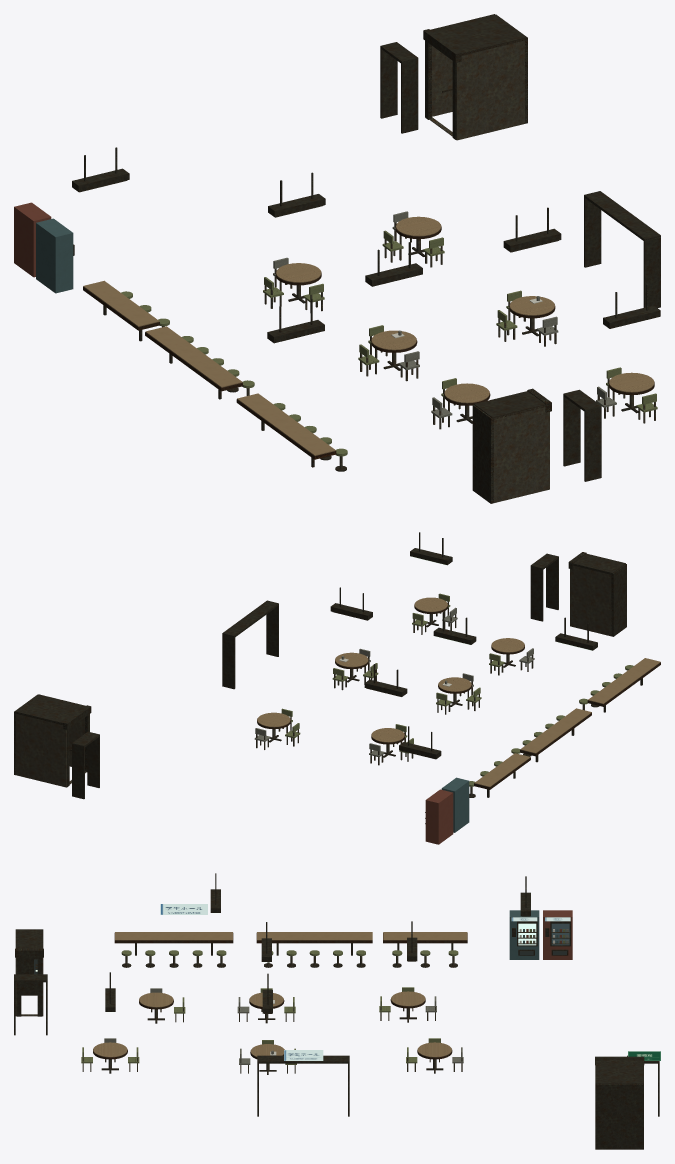
File: school_2f_elevators.glb
The picture shows the model from 3 angles, top to bottom: view 1: azimuth 30°, elevation 25°; view 2: azimuth 150°, elevation 25°; view 3: azimuth 270°, elevation 25°; orthographic projection. The views are drawn at different scales.
Visible parts, largest first — view 1: Door casing / Frame, Details 1 -2 / Steel, Details -1 1 / Steel, Wall counter / Cafe Laminate, Round tabletops / Cafe Laminate, Details -1 1 / Frame, Details 1 -2 / Frame, Vending cabinet / Vending Blue, Vending cabinet / Vending Red, Details 0 -2 / Frame, Wall counter edging / Wood Edge, Round table edging / Wood Edge (+7 smaller); view 2: Door casing / Frame, Details 1 -2 / Steel, Details -1 1 / Steel, Wall counter / Cafe Laminate, Round tabletops / Cafe Laminate, Details -1 1 / Frame, Vending cabinet / Vending Red, Details 1 -2 / Frame, Vending cabinet / Vending Blue, Wall counter edging / Wood Edge, Details 0 -2 / Frame, Round table edging / Wood Edge (+7 smaller); view 3: Details 1 -2 / Frame, Wall counter / Cafe Laminate, Round tabletops / Cafe Laminate, Details -1 1 / Frame, Door casing / Frame, Wall counter edging / Wood Edge, Vending cabinet / Vending Red, Vending cabinet / Vending Blue, Counter stools / Cafe Green, Sign 04 / Signs, Round table edging / Wood Edge, Stool feet / Frame (+1 smaller).
Part boxes in pixels (x1,y1,x2,y2): Door casing / Frame: (380,42,660,481); Details 1 -2 / Steel: (425,39,526,140); Details -1 1 / Steel: (439,395,605,502); Wall counter / Cafe Laminate: (83,280,335,455); Round tabletops / Cafe Laminate: (276,216,654,403); Details -1 1 / Frame: (472,388,551,503); Details 1 -2 / Frame: (430,14,527,123); Vending cabinet / Vending Blue: (36,218,73,293); Vending cabinet / Vending Red: (14,202,51,277); Details 0 -2 / Frame: (423,29,461,139); Wall counter edging / Wood Edge: (83,286,336,459); Round table edging / Wood Edge: (275,224,654,405); Door casing / Frame: (72,553,558,799); Details 1 -2 / Steel: (15,713,89,787); Details -1 1 / Steel: (450,564,612,668); Wall counter / Cafe Laminate: (474,658,660,787); Round tabletops / Cafe Laminate: (257,597,524,742); Details -1 1 / Frame: (568,552,626,636); Vending cabinet / Vending Red: (425,789,453,844); Details 1 -2 / Frame: (14,694,85,774); Vending cabinet / Vending Blue: (441,777,469,832); Wall counter edging / Wood Edge: (474,662,660,789); Details 0 -2 / Frame: (63,705,91,787); Round table edging / Wood Edge: (257,603,524,744); Details 1 -2 / Frame: (595,1059,643,1149); Wall counter / Cafe Laminate: (115,932,467,940); Round tabletops / Cafe Laminate: (93,991,451,1057); Details -1 1 / Frame: (15,929,43,1016); Door casing / Frame: (14,974,659,1116); Wall counter edging / Wood Edge: (114,933,467,943); Vending cabinet / Vending Red: (543,910,572,959); Vending cabinet / Vending Blue: (509,910,539,959); Counter stools / Cafe Green: (121,950,458,955); Sign 04 / Signs: (160,904,207,914); Round table edging / Wood Edge: (93,998,452,1059); Stool feet / Frame: (122,963,457,967).
Bounding box in the file's own units: 22.04 × 4.79 × 30.67.
Materials: 15 (10 with a texture image).
